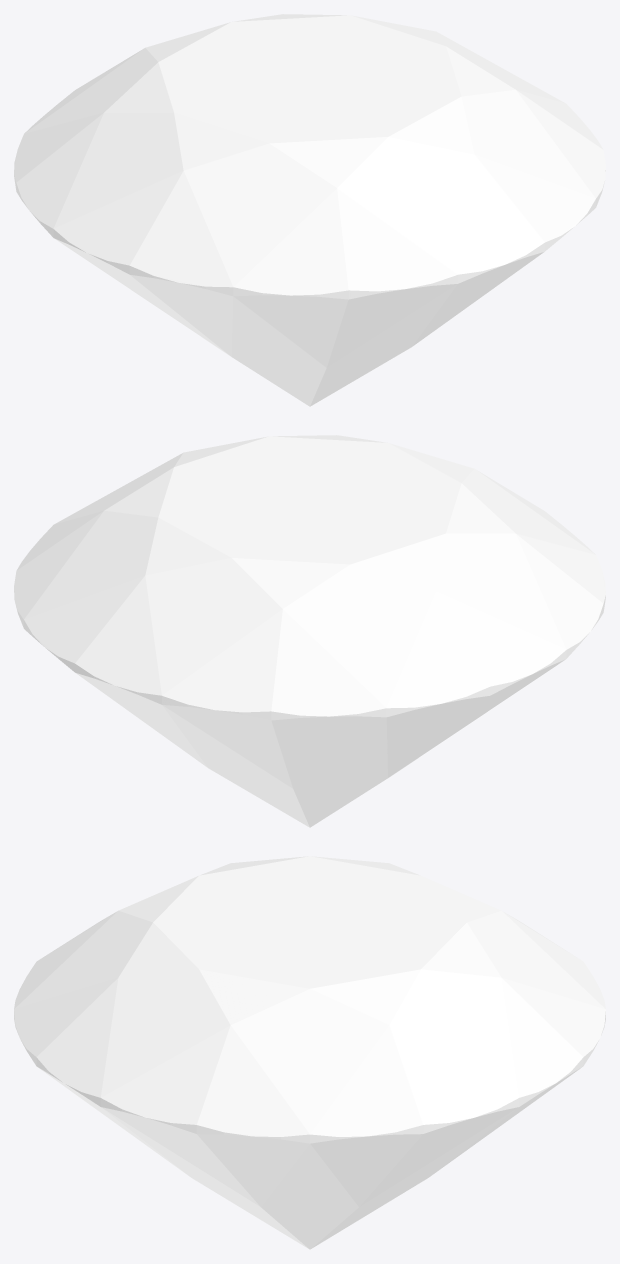
Rendered from Diamond2.glb.
The picture shows the model from 3 angles, top to bottom: view 1: azimuth 30°, elevation 25°; view 2: azimuth 150°, elevation 25°; view 3: azimuth 270°, elevation 25°; orthographic projection.
Parts seen in each view (by area): view 1: Diamond; view 2: Diamond; view 3: Diamond.
Boxes of the visible parts, x1=… form: Diamond: x1=14, y1=14, x2=605, y2=406; Diamond: x1=14, y1=435, x2=605, y2=827; Diamond: x1=14, y1=856, x2=605, y2=1249.
Bounding box in the file's own units: 3.52 × 2.15 × 3.52.
Materials: 1 (1 with a texture image).
